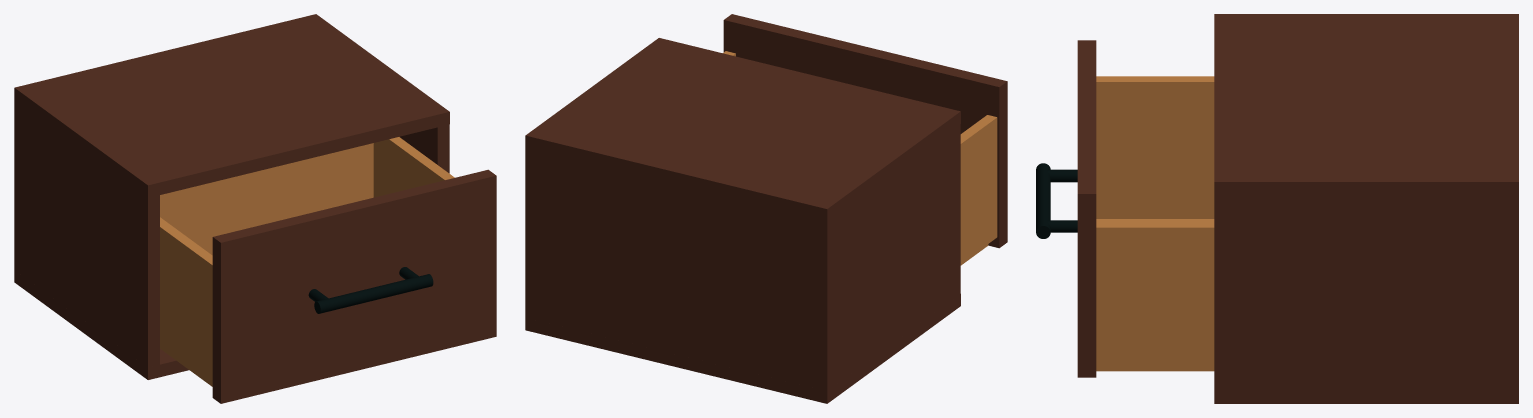
3 renders of one model, left to right at view 1: azimuth 30°, elevation 25°; view 2: azimuth 150°, elevation 25°; view 3: azimuth 270°, elevation 25°, orthographic. The views are drawn at different scales.
Parts seen in each view (by area): view 1: /Asset/Links/drawer/Visuals/front/Geom, /Asset/Links/cabinet/Visuals/top/Geom, /Asset/Links/cabinet/Visuals/left/Geom, /Asset/Links/drawer/Visuals/rear_liner/Geom, /Asset/Links/drawer/Visuals/left_liner/Geom, /Asset/Links/drawer/Visuals/right_liner/Geom, /Asset/Links/cabinet/Visuals/bottom/Geom, /Asset/Links/drawer/Visuals/pull_bar/Geom, /Asset/Links/cabinet/Visuals/right/Geom; view 2: /Asset/Links/cabinet/Visuals/back/Geom, /Asset/Links/cabinet/Visuals/top/Geom, /Asset/Links/cabinet/Visuals/left/Geom, /Asset/Links/drawer/Visuals/front/Geom, /Asset/Links/cabinet/Visuals/bottom/Geom, /Asset/Links/drawer/Visuals/left_liner/Geom, /Asset/Links/cabinet/Visuals/right/Geom; view 3: /Asset/Links/cabinet/Visuals/right/Geom, /Asset/Links/cabinet/Visuals/top/Geom, /Asset/Links/drawer/Visuals/left_liner/Geom, /Asset/Links/drawer/Visuals/right_liner/Geom, /Asset/Links/drawer/Visuals/front/Geom, /Asset/Links/cabinet/Visuals/bottom/Geom, /Asset/Links/drawer/Visuals/floor/Geom, /Asset/Links/drawer/Visuals/pull_bar/Geom.
Boxes of the visible parts, x1,y1,x2,y2 form: /Asset/Links/drawer/Visuals/front/Geom: (212,169,496,403); /Asset/Links/cabinet/Visuals/top/Geom: (14,14,449,197); /Asset/Links/cabinet/Visuals/left/Geom: (14,100,159,367); /Asset/Links/drawer/Visuals/rear_liner/Geom: (160,143,373,255); /Asset/Links/drawer/Visuals/left_liner/Geom: (160,217,212,384); /Asset/Links/drawer/Visuals/right_liner/Geom: (373,137,454,197); /Asset/Links/cabinet/Visuals/bottom/Geom: (14,270,188,379); /Asset/Links/drawer/Visuals/pull_bar/Geom: (314,274,433,313); /Asset/Links/cabinet/Visuals/right/Geom: (399,124,449,173); /Asset/Links/cabinet/Visuals/back/Geom: (537,151,815,388); /Asset/Links/cabinet/Visuals/top/Geom: (525,38,960,221); /Asset/Links/cabinet/Visuals/left/Geom: (815,124,960,391); /Asset/Links/drawer/Visuals/front/Geom: (723,14,1007,248); /Asset/Links/cabinet/Visuals/bottom/Geom: (525,293,960,403); /Asset/Links/drawer/Visuals/left_liner/Geom: (960,115,997,263); /Asset/Links/cabinet/Visuals/right/Geom: (525,148,537,320); /Asset/Links/cabinet/Visuals/right/Geom: (1214,196,1518,389); /Asset/Links/cabinet/Visuals/top/Geom: (1214,14,1518,196); /Asset/Links/drawer/Visuals/left_liner/Geom: (1096,76,1214,218); /Asset/Links/drawer/Visuals/right_liner/Geom: (1096,222,1214,364); /Asset/Links/drawer/Visuals/front/Geom: (1077,40,1096,377); /Asset/Links/cabinet/Visuals/bottom/Geom: (1214,389,1518,403); /Asset/Links/drawer/Visuals/floor/Geom: (1096,219,1214,371); /Asset/Links/drawer/Visuals/pull_bar/Geom: (1036,163,1050,238).
Bounding box in the file's own units: 0.3 × 0.185 × 0.3645.
